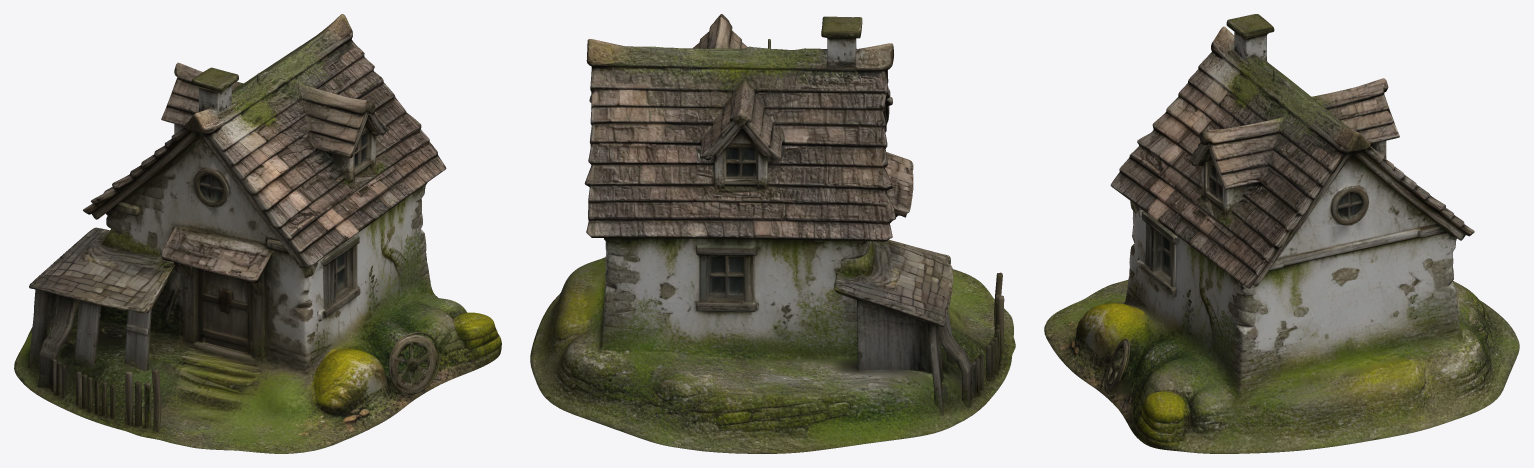
File: abandoned.glb
3 views of the same model, side by side, from view 1: azimuth 30°, elevation 25°; view 2: azimuth 150°, elevation 25°; view 3: azimuth 270°, elevation 25° (orthographic). The views are drawn at different scales.
Parts seen in each view (by area): view 1: node_0; view 2: node_0; view 3: node_0.
Part boxes in pixels (x1=…): node_0: x1=14, y1=14, x2=501, y2=453; node_0: x1=530, y1=14, x2=1015, y2=453; node_0: x1=1044, y1=14, x2=1519, y2=453.
Size of the model in its own units: 0.9272 by 0.6591 by 0.9272.
1 material, 1 textured.
